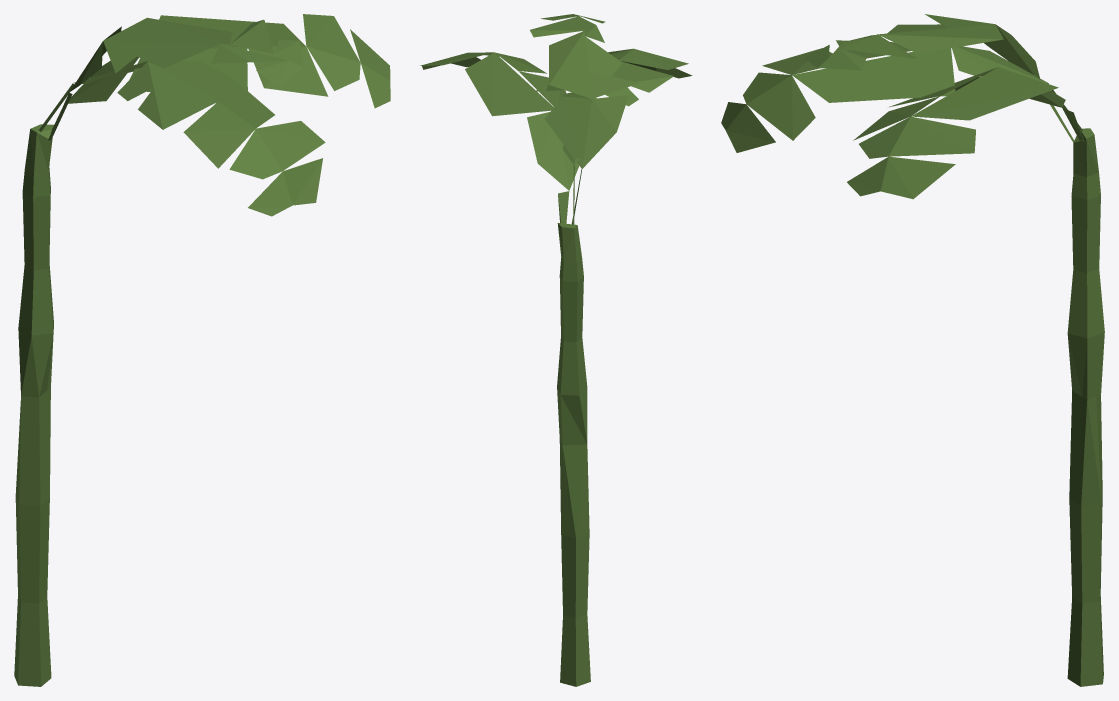
File: Vegetation_Tree_Bamboo_02.fbx
3 renders of one model, left to right at view 1: azimuth 30°, elevation 25°; view 2: azimuth 150°, elevation 25°; view 3: azimuth 270°, elevation 25°, orthographic. The views are drawn at different scales.
Parts seen in each view (by area): view 1: Vegetation_Tree_Bamboo_02; view 2: Vegetation_Tree_Bamboo_02; view 3: Vegetation_Tree_Bamboo_02.
Boxes of the visible parts, x1,y1,x2,y2 form: Vegetation_Tree_Bamboo_02: (14, 14, 390, 686); Vegetation_Tree_Bamboo_02: (420, 14, 692, 686); Vegetation_Tree_Bamboo_02: (721, 14, 1104, 686).
Size of the model in its own units: 2221 by 5089 by 2562.
